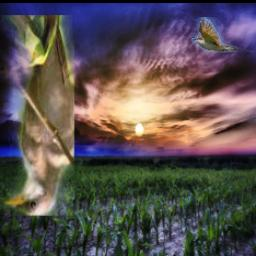Cuckoo: (0, 16, 74, 217), (191, 18, 253, 53)
